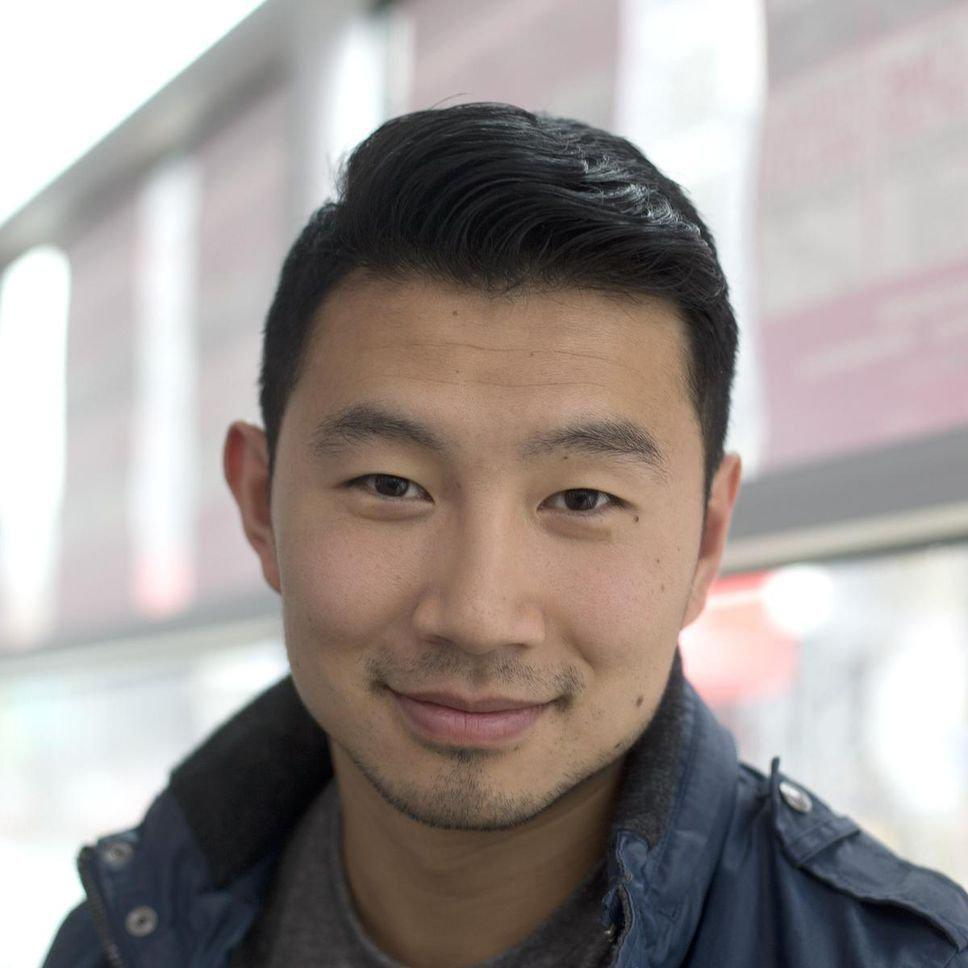Sober: (311, 274, 674, 807)
